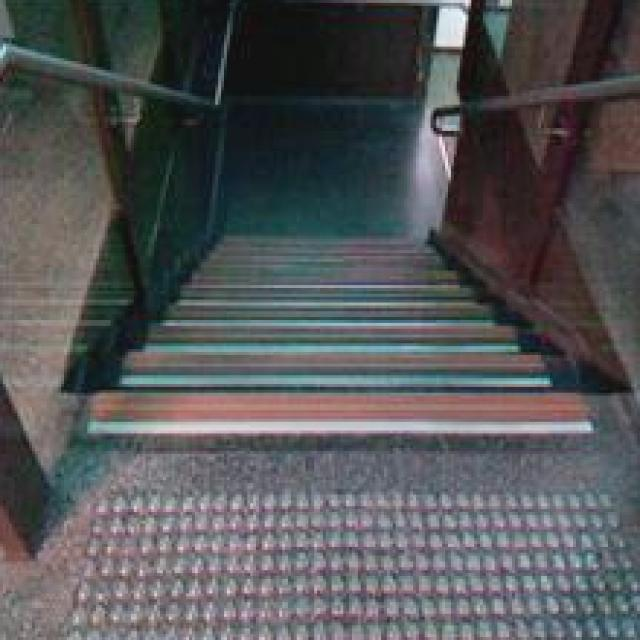downstair: (80, 292, 600, 469)
